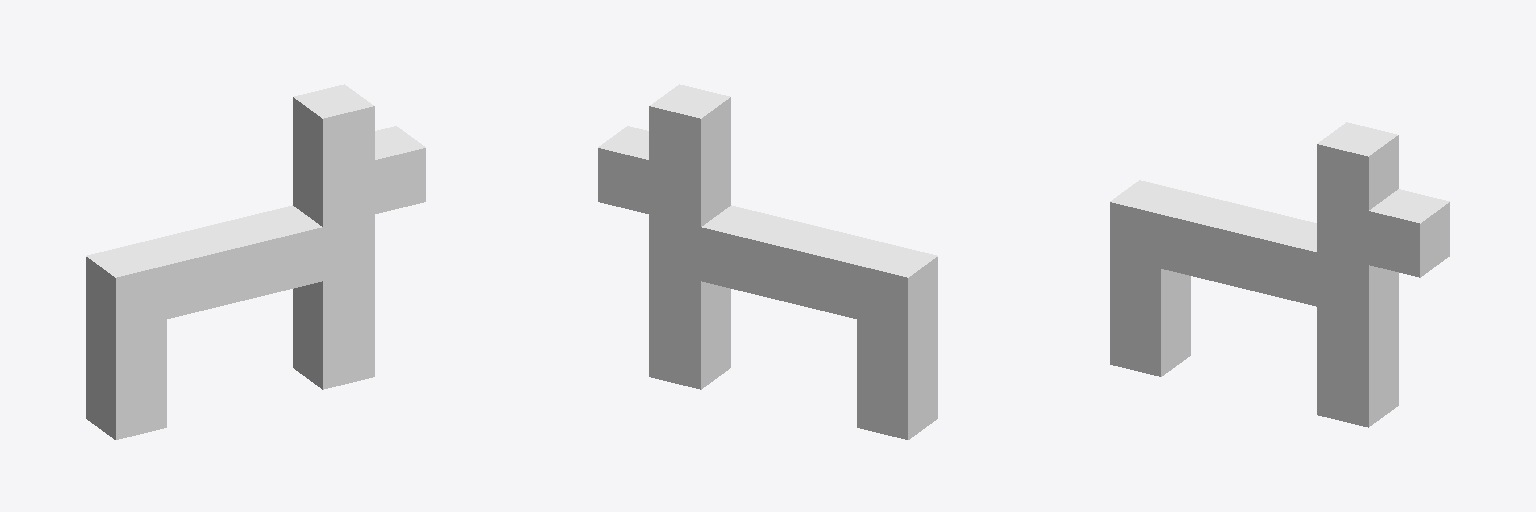
Rendered from dalahorse.obj.
3 views of the same model, side by side, from view 1: azimuth 30°, elevation 25°; view 2: azimuth 150°, elevation 25°; view 3: azimuth 330°, elevation 25° (orthographic).
Size of the model in its own units: 6 by 5 by 1.